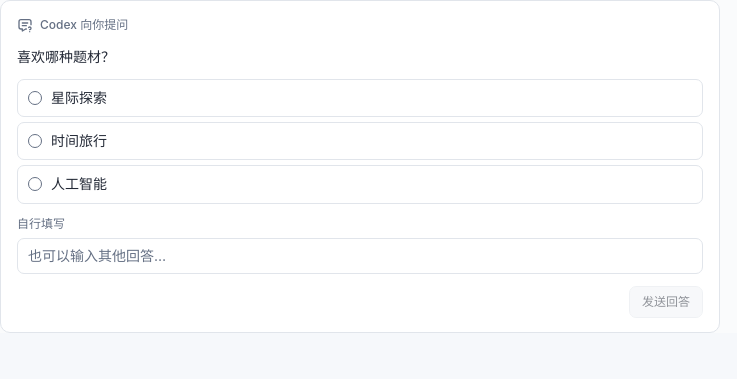
Test case: does not redispatch when a lost receipt remains absent
Click the radio button labelled "时间旅行" at [35, 141], box [28,134,42,148]
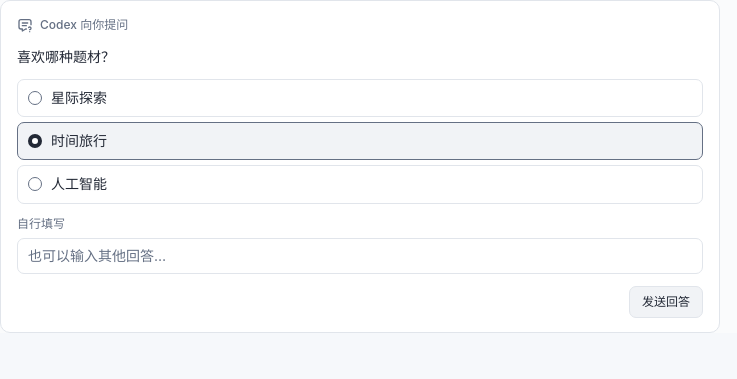
Click the button "发送回答" at [666, 302], box [629,286,703,318]
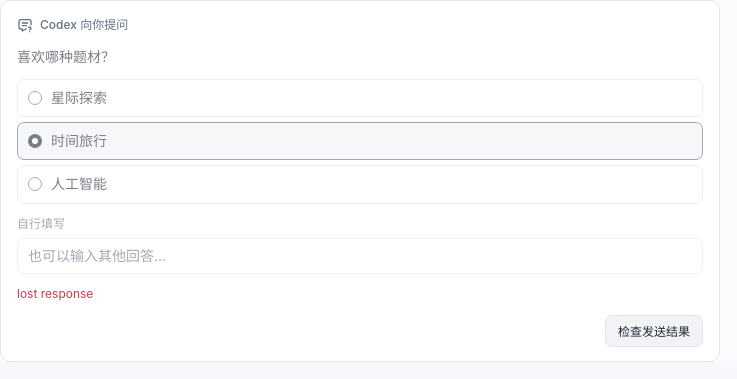
Result: the message "lost response" is shown at [17,286,93,301]
Click the button "检查发送结果" at [654, 331], box [605,315,703,347]
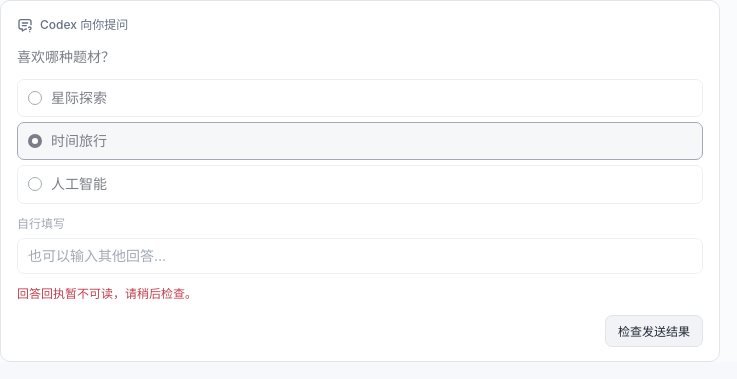
Result: the text "回答回执暂不可读，请稍后检查。" is shown at [17,286,197,301]
